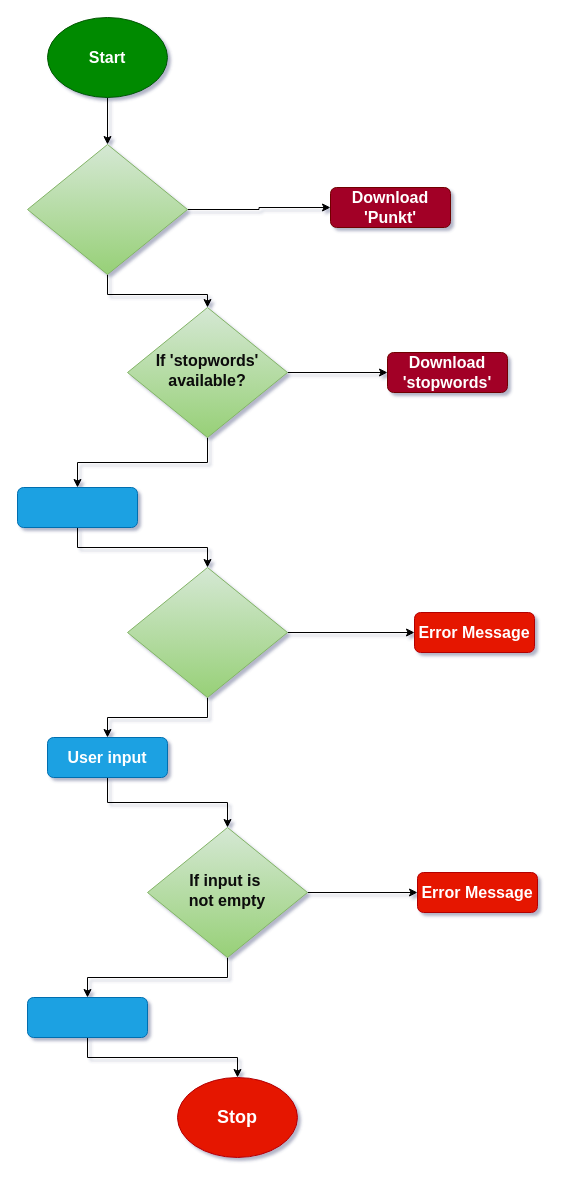
Image size: 561x1181. Some labels were removed from this diagram. The shapes that lost their labels are listed below. From the top down, each one's centre as x and y in pixels, then its label:
At (107,209): "If Punkt available?".
At (77,507): "Load Model".
At (207,632): "If Model loaded successfully?".
At (87,1017): "Generate Response".
